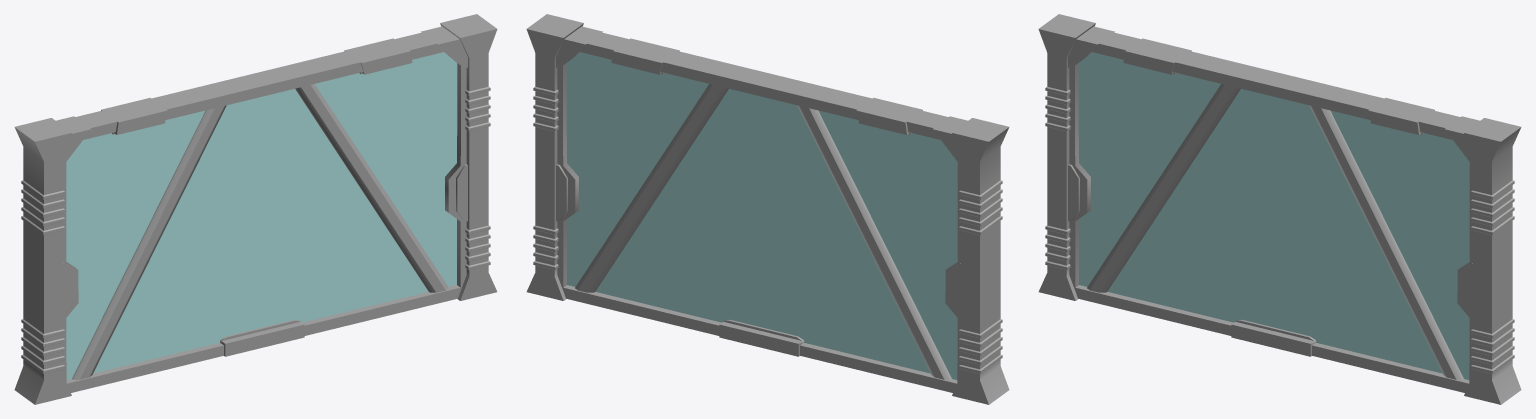
The model's file is OutWall.fbx.
The picture shows the model from 3 angles, left to right: view 1: azimuth 30°, elevation 25°; view 2: azimuth 150°, elevation 25°; view 3: azimuth 330°, elevation 25°; orthographic projection.
Visible parts, largest first — view 1: OutWall_WithGlass; view 2: OutWall_WithGlass; view 3: OutWall_WithGlass.
Boxes of the visible parts, x1,y1,x2,y2 form: OutWall_WithGlass: (14, 14, 497, 404); OutWall_WithGlass: (526, 14, 1009, 404); OutWall_WithGlass: (1038, 14, 1521, 404).
Bounding box in the file's own units: 558 × 303 × 45.84.
